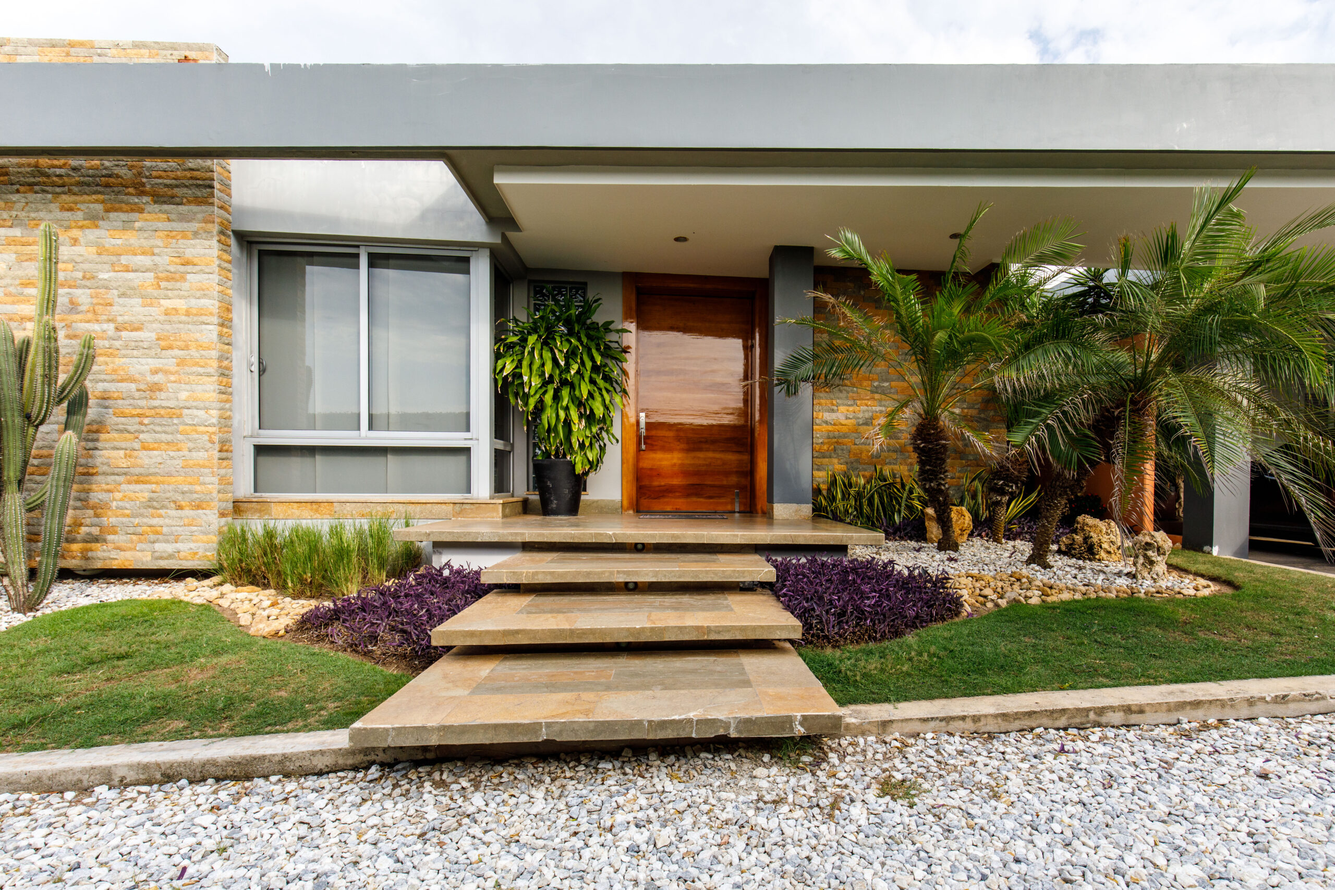House: (17, 40, 1327, 668)
